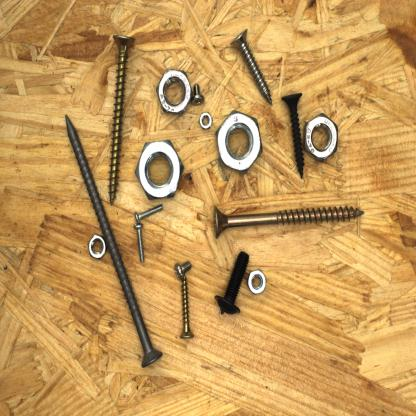screw: (64, 111, 166, 372), (208, 201, 368, 243), (105, 27, 138, 209), (226, 26, 277, 109), (278, 88, 310, 184), (212, 248, 253, 317), (176, 274, 197, 344), (130, 202, 166, 225), (132, 222, 149, 264), (188, 80, 210, 108), (172, 259, 196, 281)
